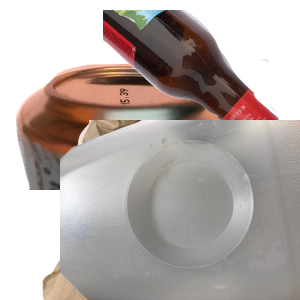glass: (103, 10, 300, 163)
metal: (13, 61, 240, 241)
plastic: (60, 120, 300, 300)
trash: (40, 120, 280, 300)
